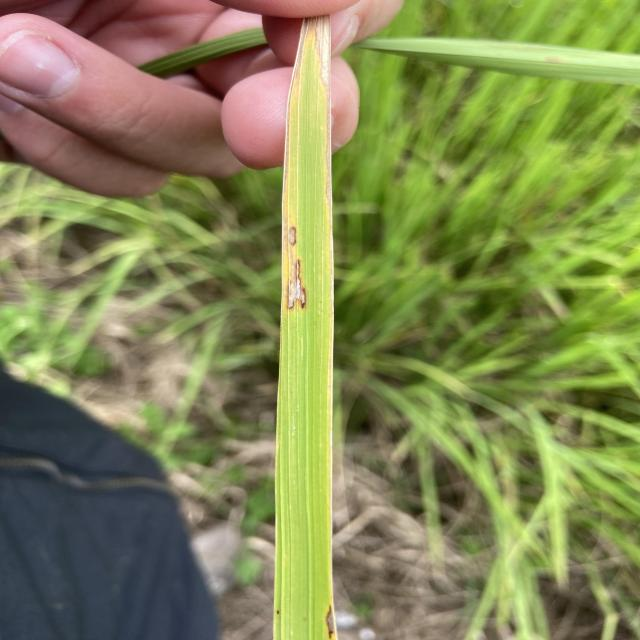Dao on: (286, 257, 306, 310), (326, 604, 334, 638), (287, 225, 297, 250)
